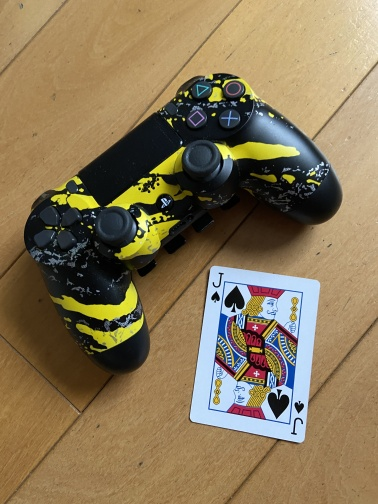jack: (188, 263, 323, 445)
